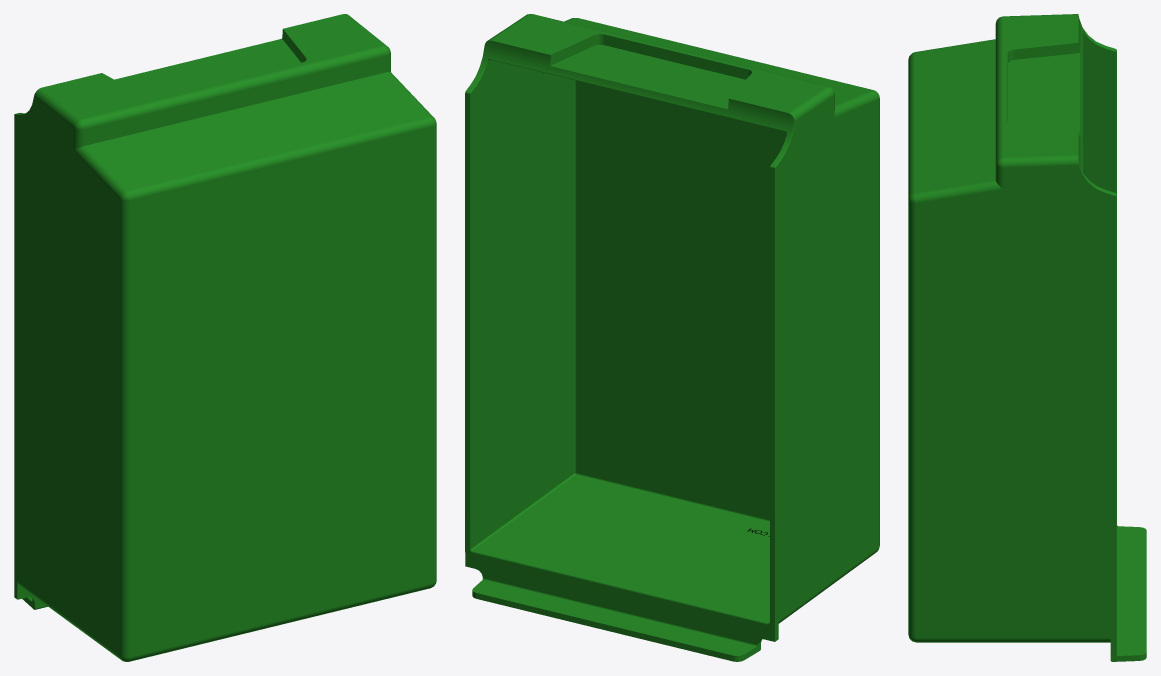
File: Slatwall_Bin_8.5in.glb
3 renders of one model, left to right at view 1: azimuth 30°, elevation 25°; view 2: azimuth 150°, elevation 25°; view 3: azimuth 270°, elevation 25°, orthographic. The views are drawn at different scales.
Parts seen in each view (by area): view 1: Solid2; view 2: Solid2; view 3: Solid2.
Part boxes in pixels (x1=…): Solid2: x1=14, y1=14, x2=436, y2=661; Solid2: x1=465, y1=14, x2=879, y2=661; Solid2: x1=908, y1=14, x2=1146, y2=661.
Bounding box in the file's own units: 0.1397 × 0.2271 × 0.0958.
